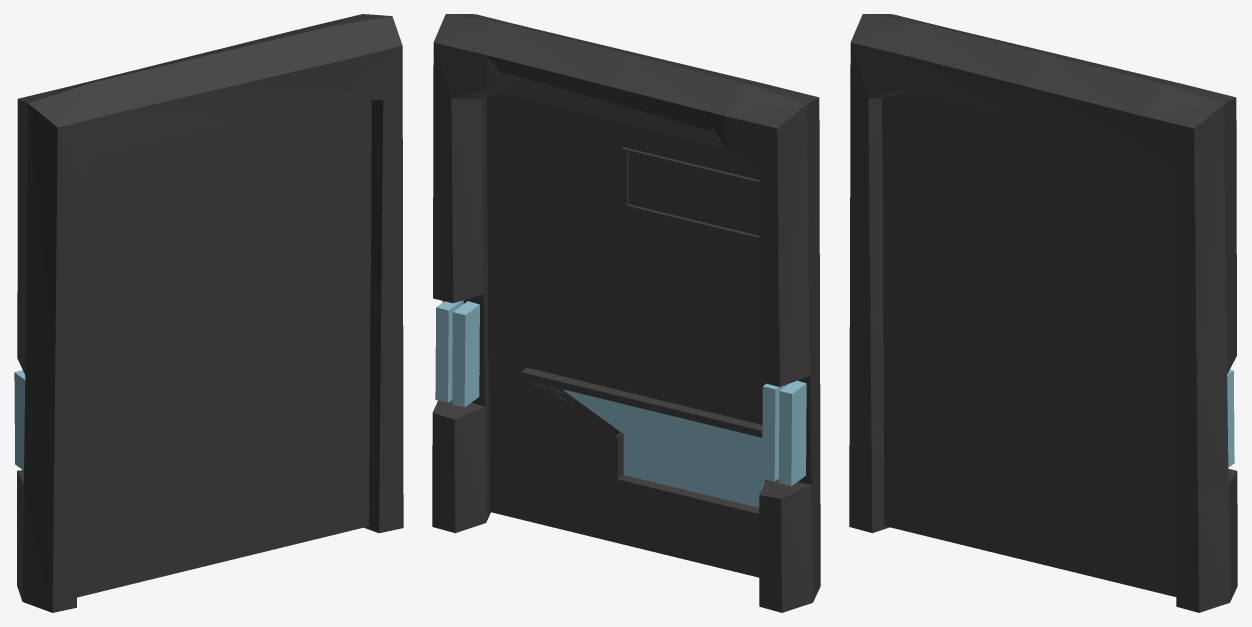
File: gate.fbx
The picture shows the model from 3 angles, left to right: view 1: azimuth 30°, elevation 25°; view 2: azimuth 150°, elevation 25°; view 3: azimuth 330°, elevation 25°; orthographic projection.
Parts seen in each view (by area): view 1: Door2, Gate_Frame, Door1, Gate_Detail3; view 2: Gate_Frame, Door2, Door1, Gate_Detail1, Gate_Detail3, Gate_Detail2, Gate_Detail4; view 3: Gate_Frame, Door2, Door1, Gate_Detail2.
Boxes of the visible parts, x1,y1,x2,y2 form: Door2: (77,270,370,597); Gate_Frame: (17,14,403,612); Door1: (77,92,371,374); Gate_Detail3: (14,370,25,470); Gate_Frame: (432,14,820,612); Door2: (487,255,766,577); Door1: (486,93,759,354); Gate_Detail1: (452,301,479,407); Gate_Detail3: (778,380,806,486); Gate_Detail2: (435,300,463,402); Gate_Detail4: (762,383,788,481); Gate_Frame: (849,14,1237,612); Door2: (883,302,1176,596); Door1: (881,91,1176,342); Gate_Detail2: (1227,369,1234,467).
Bounding box in the file's own units: 8.88 × 11.39 × 1.72.
